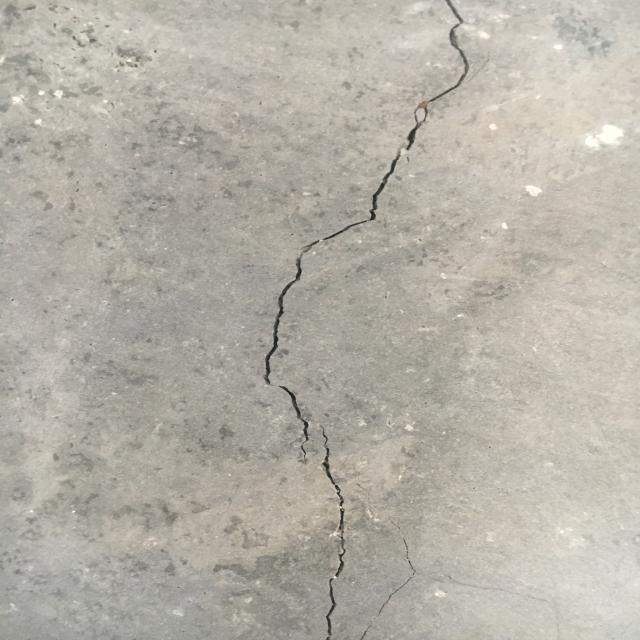SurfaceCrack: (240, 0, 501, 639)
